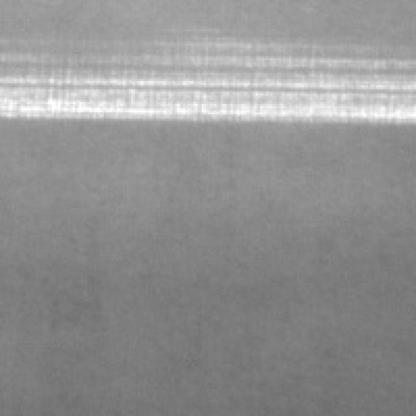scratches: (0, 50, 393, 116)
